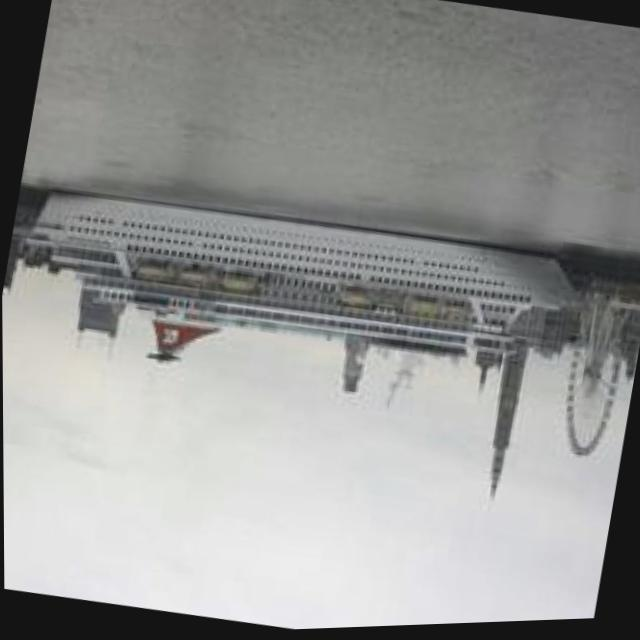ship2: (19, 188, 586, 394)
